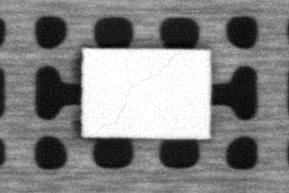DIE_CRACK: (95, 55, 175, 131)
